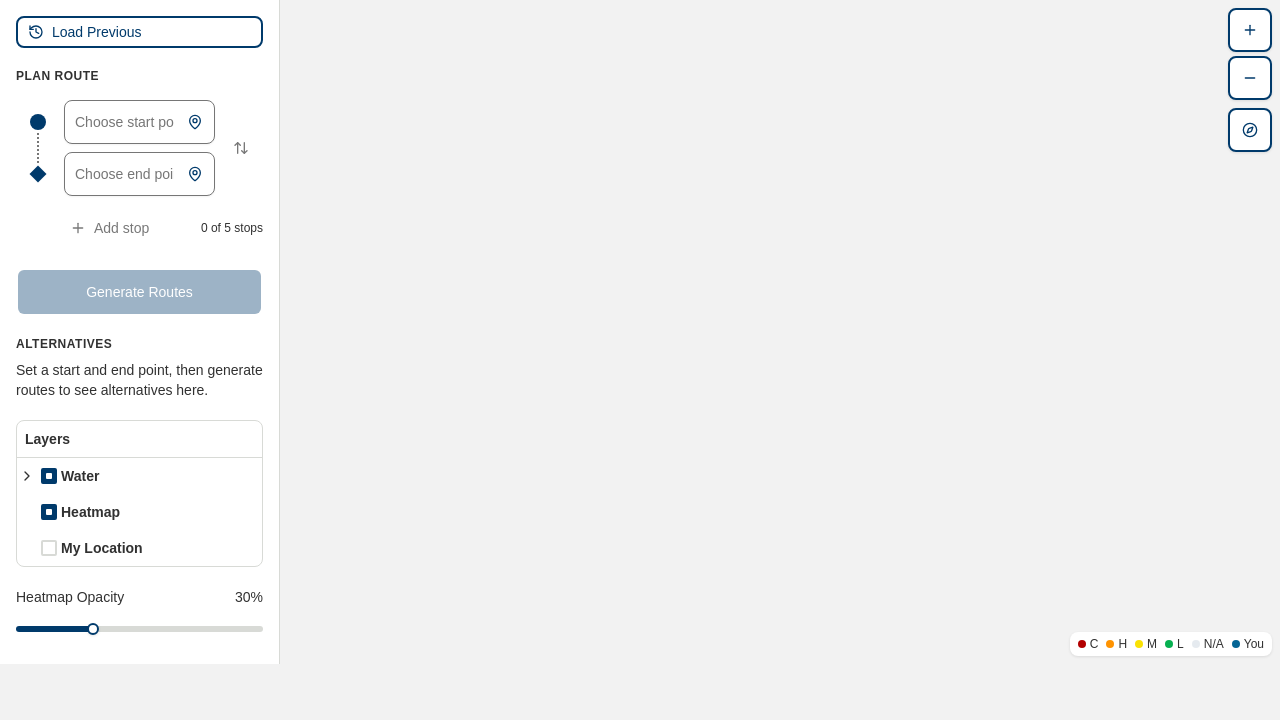
Test case: PatrolPlannerPage › clicking a workspace feature on the map › places the armed point without selecting the feature
Click the button named "Pick start point on map" at x=195, y=122, box x1=179 y1=106 x2=211 y2=138
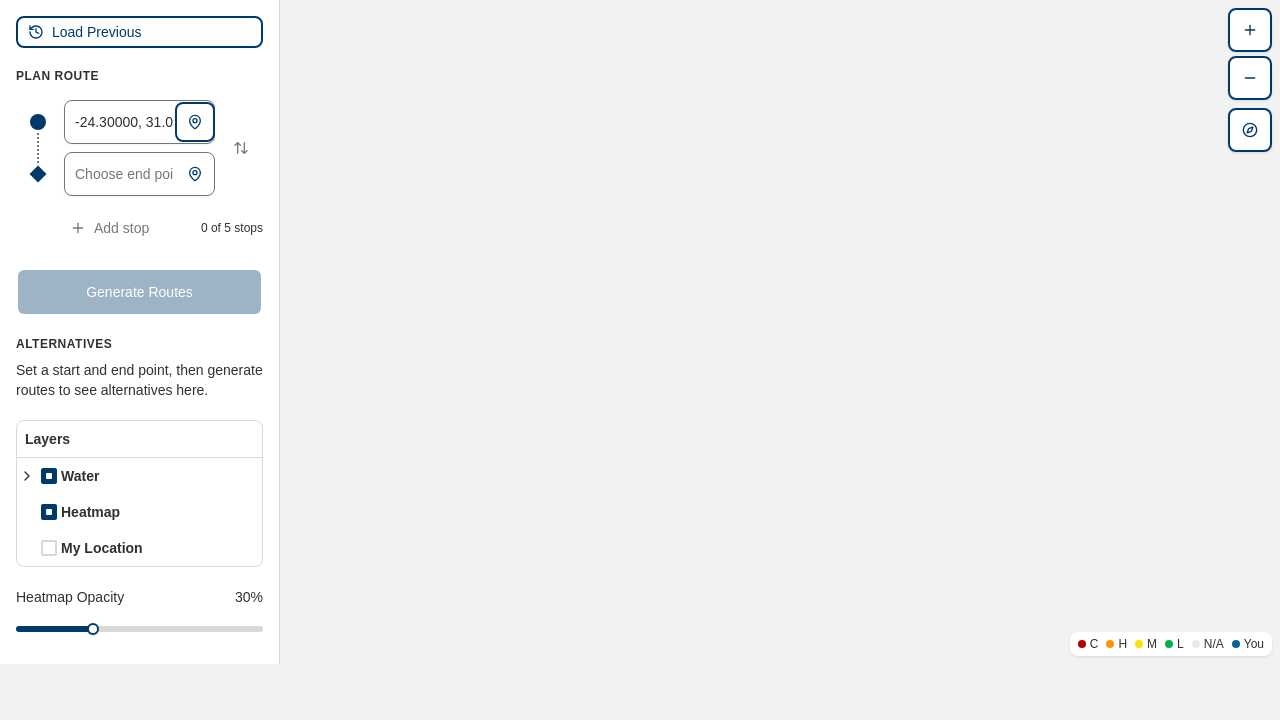
Expected: the slider named "Heatmap Opacity" is shown, x1=16 y1=626 x2=263 y2=632
Now the field named "start point" holds "-24.30000, 31.05000", box x1=64 y1=100 x2=215 y2=144
